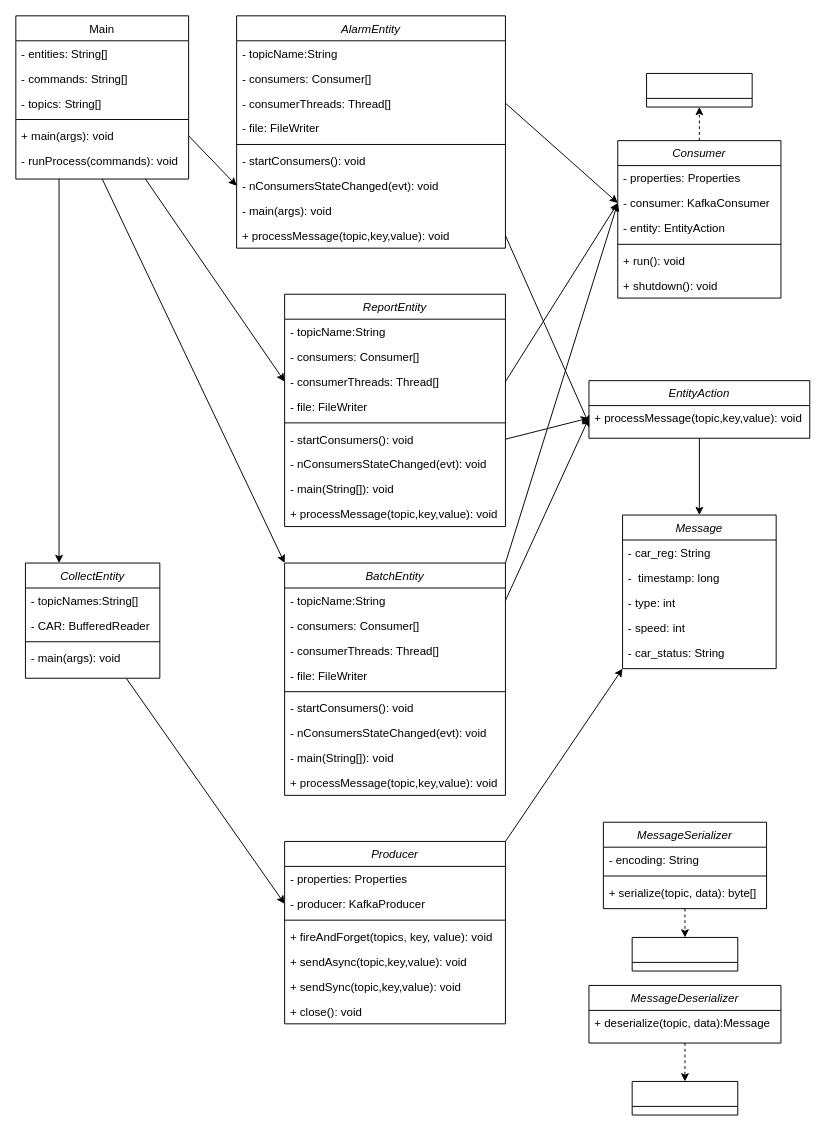
The diagram is 826 pixels wide and 1131 high, and some of its shapes have lost their labels. Here are the shapes that lost their labels. From the top down, the centre of each, then its label:
At point 699,89: "Runnable".
At point 684,953: "Serializer".
At point 684,1097: "Deserializer".
